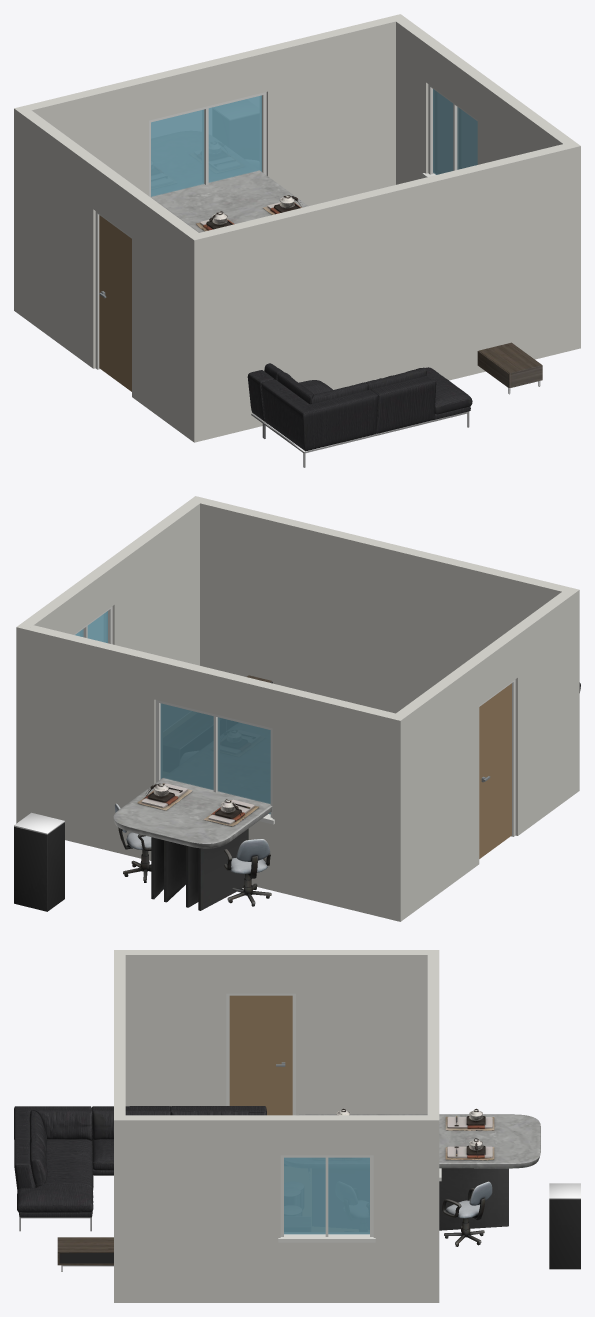
The model's file is diffuscene.glb.
The picture shows the model from 3 angles, top to bottom: view 1: azimuth 30°, elevation 25°; view 2: azimuth 150°, elevation 25°; view 3: azimuth 270°, elevation 25°; orthographic projection. The views are drawn at different scales.
Visible parts, largest first — view 1: wall|scenesmith_093__R00|0, wall|scenesmith_093__R00|1, wall|scenesmith_093__R00|2, wall|scenesmith_093__R00|3, raw_model.005, wall|scenesmith_093__R00|1 Window 0 | glazing, raw_model.009, wall|scenesmith_093__R00|2 Door 0 | wood leaf, wall|scenesmith_093__R00|3 Window 0 | glazing, raw_model.010, wall|scenesmith_093__R00|1 Window 0 | jamb, wall|scenesmith_093__R00|3 Window 0 | jamb (+1 smaller); view 2: wall|scenesmith_093__R00|1, wall|scenesmith_093__R00|0, wall|scenesmith_093__R00|2, wall|scenesmith_093__R00|3, raw_model.009, wall|scenesmith_093__R00|1 Window 0 | glazing, wall|scenesmith_093__R00|2 Door 0 | wood leaf, raw_model.001, raw_model.004, wall|scenesmith_093__R00|1 Window 0 | jamb, wall|scenesmith_093__R00|2 Door 0 | jamb; view 3: wall|scenesmith_093__R00|3, wall|scenesmith_093__R00|2, raw_model.005, raw_model.009, wall|scenesmith_093__R00|2 Door 0 | wood leaf, wall|scenesmith_093__R00|3 Window 0 | glazing, wall|scenesmith_093__R00|1, wall|scenesmith_093__R00|0, raw_model.001, wall|scenesmith_093__R00|3 Window 0 | jamb, raw_model.010, raw_model.004 (+1 smaller).
Boxes of the visible parts, bbox=[...] form: wall|scenesmith_093__R00|0: bbox=[194, 141, 580, 442]; wall|scenesmith_093__R00|1: bbox=[25, 17, 395, 205]; wall|scenesmith_093__R00|2: bbox=[14, 105, 205, 442]; wall|scenesmith_093__R00|3: bbox=[390, 14, 580, 350]; raw_model.005: bbox=[247, 363, 472, 467]; wall|scenesmith_093__R00|1 Window 0 | glazing: bbox=[151, 95, 261, 196]; raw_model.009: bbox=[151, 170, 308, 232]; wall|scenesmith_093__R00|2 Door 0 | wood leaf: bbox=[99, 215, 131, 391]; wall|scenesmith_093__R00|3 Window 0 | glazing: bbox=[433, 89, 477, 174]; raw_model.010: bbox=[477, 342, 542, 394]; wall|scenesmith_093__R00|1 Window 0 | jamb: bbox=[149, 92, 266, 197]; wall|scenesmith_093__R00|3 Window 0 | jamb: bbox=[422, 84, 477, 177]; wall|scenesmith_093__R00|1: bbox=[27, 625, 395, 918]; wall|scenesmith_093__R00|0: bbox=[189, 496, 567, 713]; wall|scenesmith_093__R00|2: bbox=[389, 587, 579, 921]; wall|scenesmith_093__R00|3: bbox=[16, 497, 200, 823]; raw_model.009: bbox=[113, 777, 272, 910]; wall|scenesmith_093__R00|1 Window 0 | glazing: bbox=[160, 703, 270, 814]; wall|scenesmith_093__R00|2 Door 0 | wood leaf: bbox=[479, 683, 511, 858]; raw_model.001: bbox=[14, 812, 64, 911]; raw_model.004: bbox=[114, 803, 271, 906]; wall|scenesmith_093__R00|1 Window 0 | jamb: bbox=[155, 700, 274, 824]; wall|scenesmith_093__R00|2 Door 0 | jamb: bbox=[479, 679, 515, 836]; wall|scenesmith_093__R00|3: bbox=[114, 1115, 439, 1302]; wall|scenesmith_093__R00|2: bbox=[114, 950, 439, 1114]; raw_model.005: bbox=[14, 1106, 266, 1231]; raw_model.009: bbox=[296, 1108, 540, 1230]; wall|scenesmith_093__R00|2 Door 0 | wood leaf: bbox=[229, 995, 292, 1115]; wall|scenesmith_093__R00|3 Window 0 | glazing: bbox=[284, 1157, 369, 1234]; wall|scenesmith_093__R00|1: bbox=[427, 955, 439, 1302]; wall|scenesmith_093__R00|0: bbox=[114, 955, 125, 1302]; raw_model.001: bbox=[549, 1183, 580, 1269]; wall|scenesmith_093__R00|3 Window 0 | jamb: bbox=[278, 1155, 375, 1242]; raw_model.010: bbox=[57, 1237, 113, 1271]; raw_model.004: bbox=[442, 1181, 492, 1246].
Size of the model in its own units: 5.23 by 2.61 by 7.32.
Materials: 14 (8 with a texture image).
